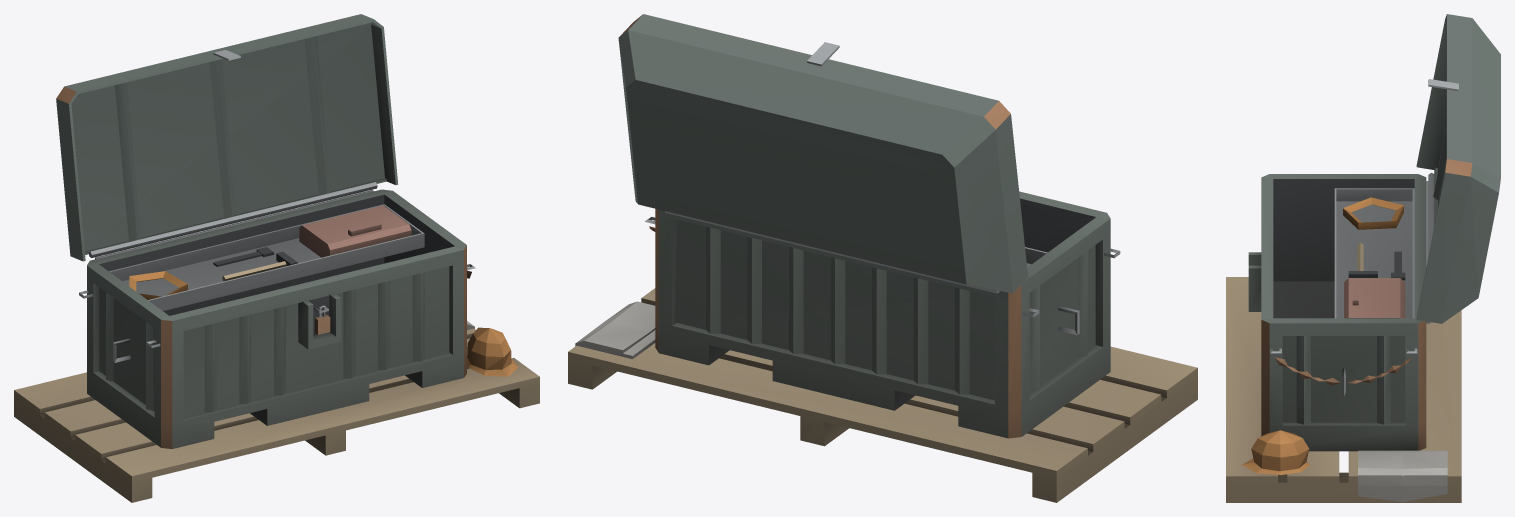
Rendered from vault.glb.
The picture shows the model from 3 angles, left to right: view 1: azimuth 30°, elevation 25°; view 2: azimuth 150°, elevation 25°; view 3: azimuth 270°, elevation 25°; orthographic projection. The views are drawn at different scales.
Visible parts, largest first — view 1: vault; view 2: vault; view 3: vault.
Boxes of the visible parts, bbox=[...] form: vault: bbox=[14, 14, 539, 502]; vault: bbox=[568, 14, 1197, 502]; vault: bbox=[1226, 14, 1500, 502].
Bounding box in the file's own units: 2.01 × 1.51 × 1.17.
